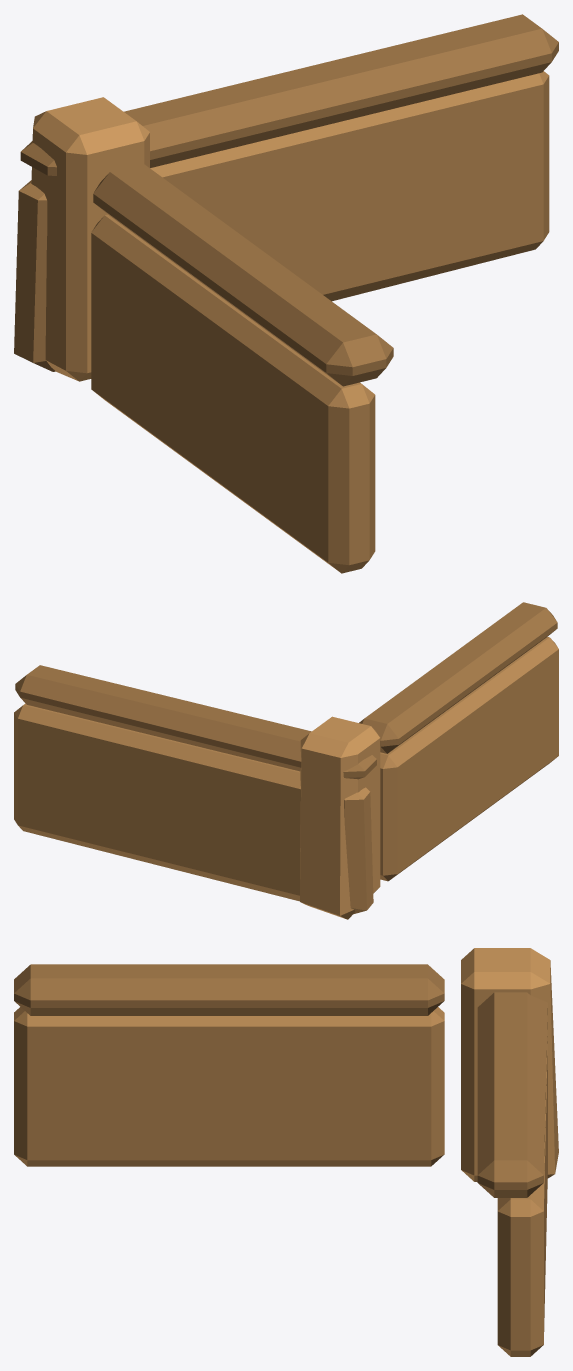
The model's file is inside_corner_skirting.glb.
3 views of the same model, one above another, from view 1: azimuth 30°, elevation 25°; view 2: azimuth 150°, elevation 25°; view 3: azimuth 270°, elevation 25° (orthographic). The views are drawn at different scales.
Parts seen in each view (by area): view 1: inside_corner_skirting; view 2: inside_corner_skirting; view 3: inside_corner_skirting.
Part boxes in pixels (bbox=[...]): inside_corner_skirting: bbox=[14, 14, 558, 573]; inside_corner_skirting: bbox=[14, 602, 558, 919]; inside_corner_skirting: bbox=[14, 948, 558, 1356].
Size of the model in its own units: 0.3097 by 0.1451 by 0.3291.
